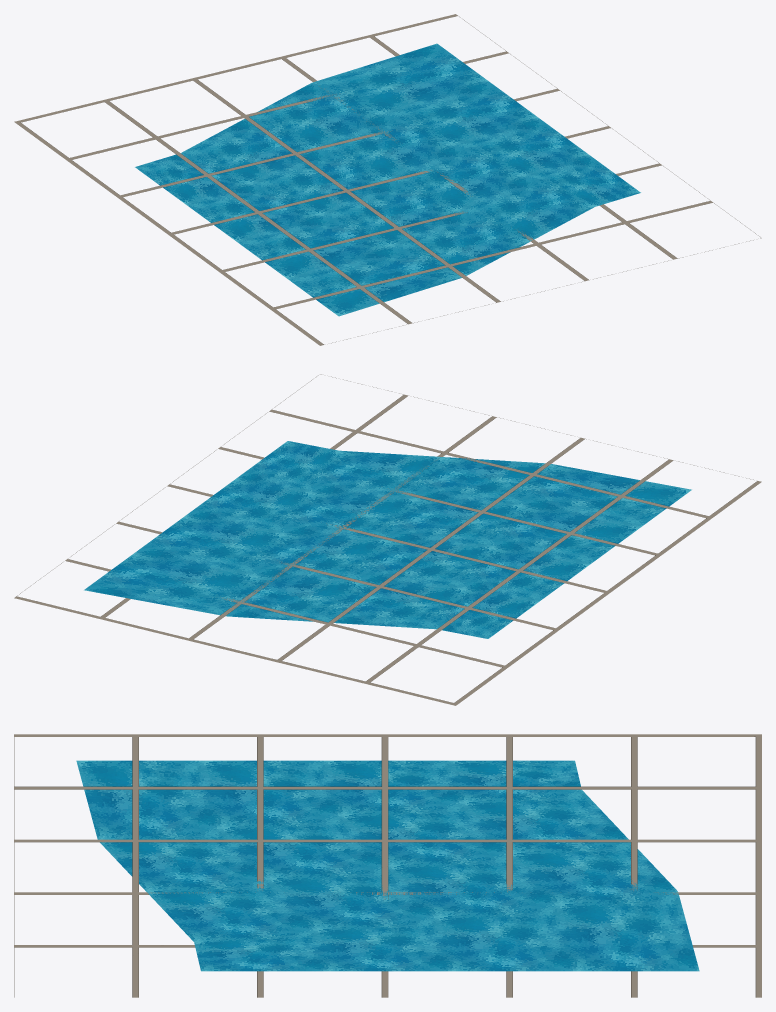
File: Terrain_Water_River_Esse_CCW_4x5.glb
The picture shows the model from 3 angles, top to bottom: view 1: azimuth 30°, elevation 25°; view 2: azimuth 150°, elevation 25°; view 3: azimuth 270°, elevation 25°; orthographic projection. The views are drawn at different scales.
Visible parts, largest first — view 1: Terrain_Water_River_Esse_CCW_4x5, Floor; view 2: Terrain_Water_River_Esse_CCW_4x5, Floor; view 3: Terrain_Water_River_Esse_CCW_4x5, Floor.
Boxes of the visible parts, bbox=[...] form: Terrain_Water_River_Esse_CCW_4x5: bbox=[135, 43, 640, 316]; Floor: bbox=[14, 14, 761, 345]; Terrain_Water_River_Esse_CCW_4x5: bbox=[84, 441, 691, 638]; Floor: bbox=[14, 374, 761, 705]; Terrain_Water_River_Esse_CCW_4x5: bbox=[76, 760, 699, 971]; Floor: bbox=[14, 734, 761, 997].
Size of the model in its own units: 500 by 0.000143 by 600.
2 materials, 2 textured.
